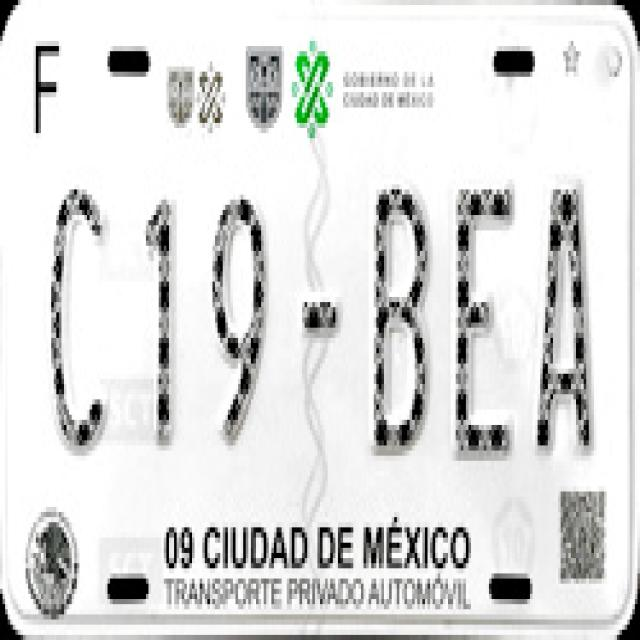placa: (18, 158, 607, 480)
